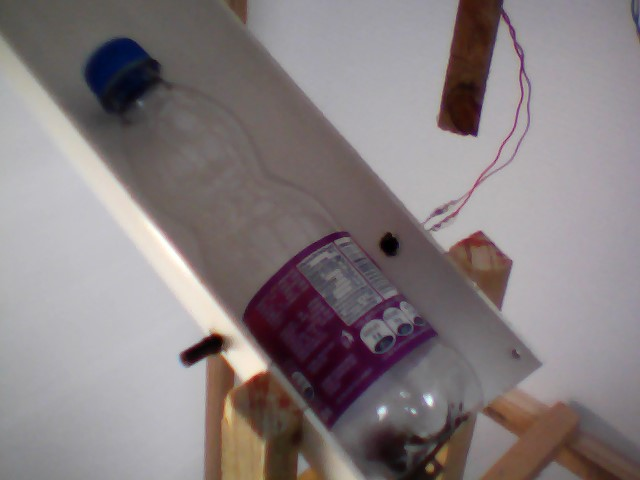plastico: (82, 34, 498, 480)
